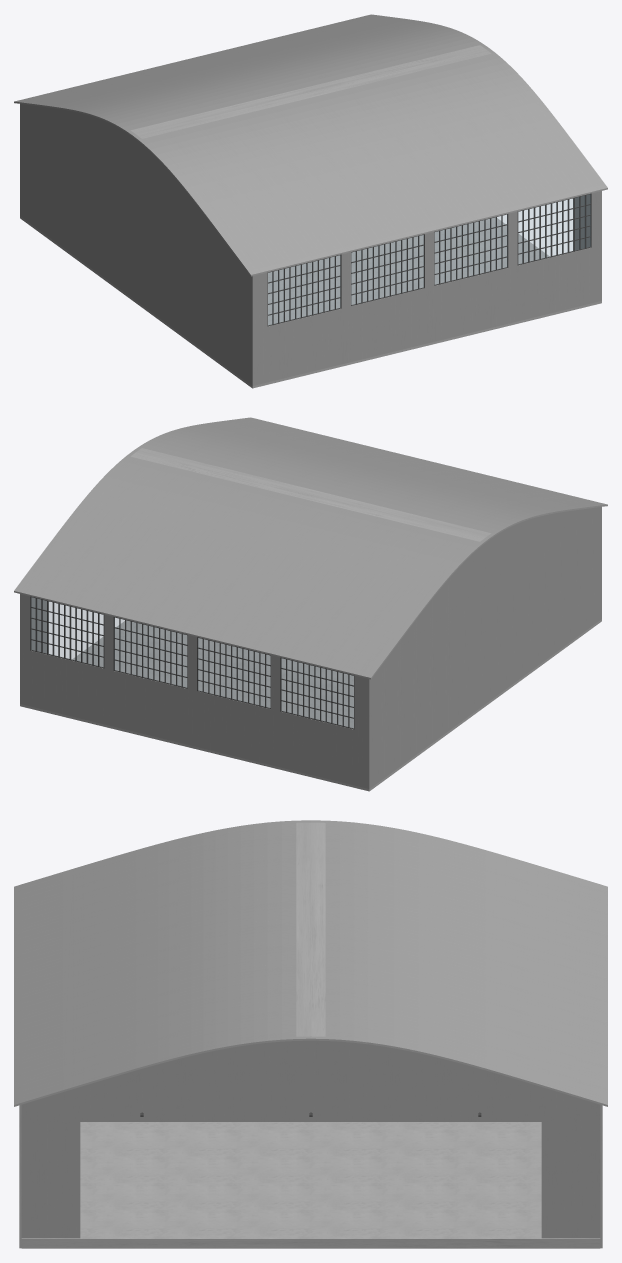
File: gen_open_hangar09-27x23x8-cbj_LOD01.gltf
3 views of the same model, one above another, from view 1: azimuth 30°, elevation 25°; view 2: azimuth 150°, elevation 25°; view 3: azimuth 270°, elevation 25° (orthographic). The views are drawn at different scales.
Parts seen in each view (by area): view 1: Cube.003; view 2: Cube.003; view 3: Cube.003.
Part boxes in pixels (x1,y1,x2,y2): Cube.003: (14,14,607,388); Cube.003: (14,417,607,791); Cube.003: (14,820,607,1248).
Size of the model in its own units: 24.22 by 10.89 by 27.7.
